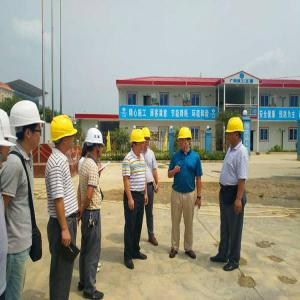white: (12, 100, 44, 152), (86, 128, 105, 158)
yellow: (51, 115, 76, 153), (225, 118, 245, 146), (131, 130, 146, 155), (179, 127, 193, 152), (143, 128, 152, 149)
